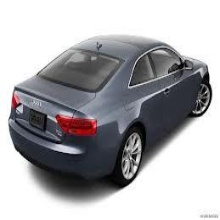no damage: (9, 36, 213, 189)
